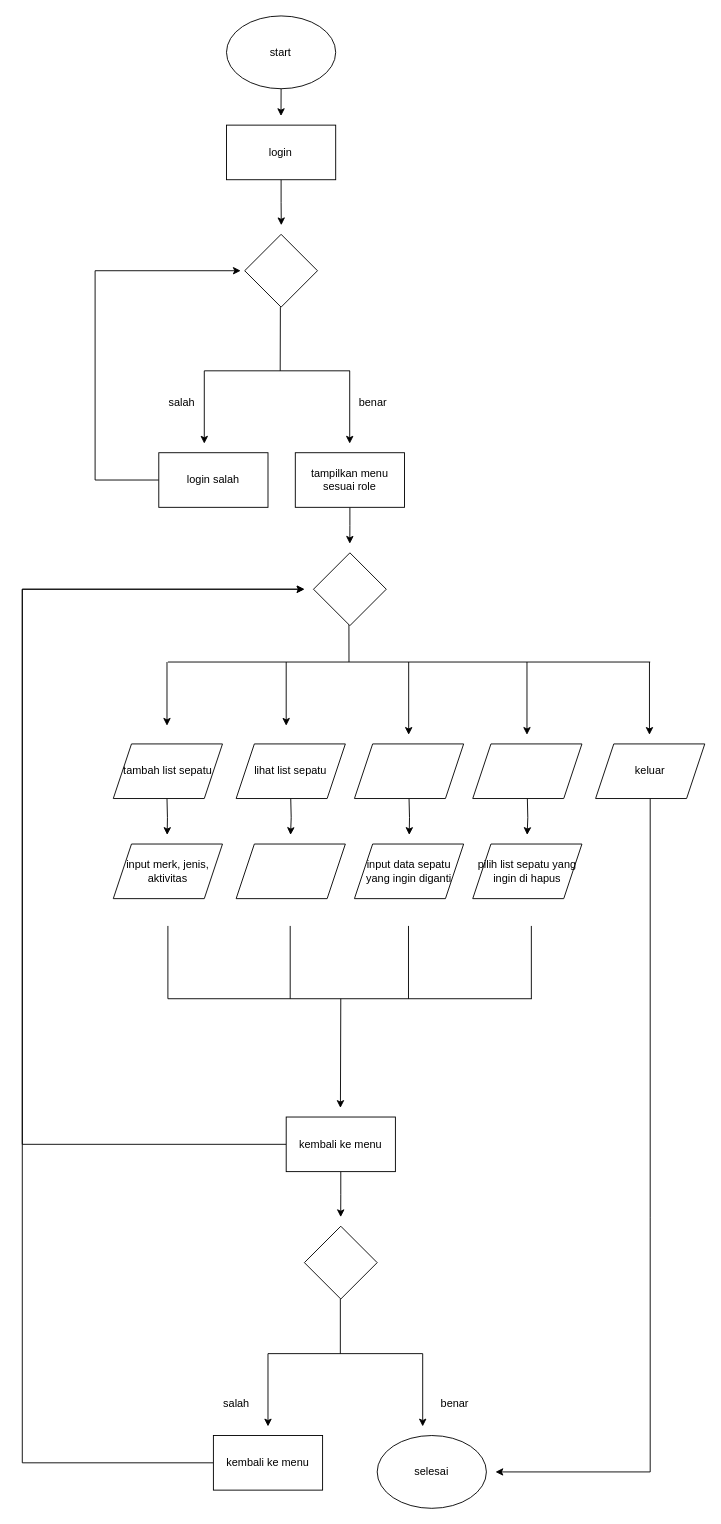
Some shapes in this 721 by 1524 pixel diagram are drawn without their labels. Here are the shapes that lost their labels. From the top down, the centre of each, then its label:
(280,270): login benar?
(349,589): pilih menu
(409,771): memperbarui list sepatu (admin)
(527,771): hapus list sepatu (admin)
(290,871): tampilkan daftar sepatu
(340,1262): pilih 0 untuk keluar
